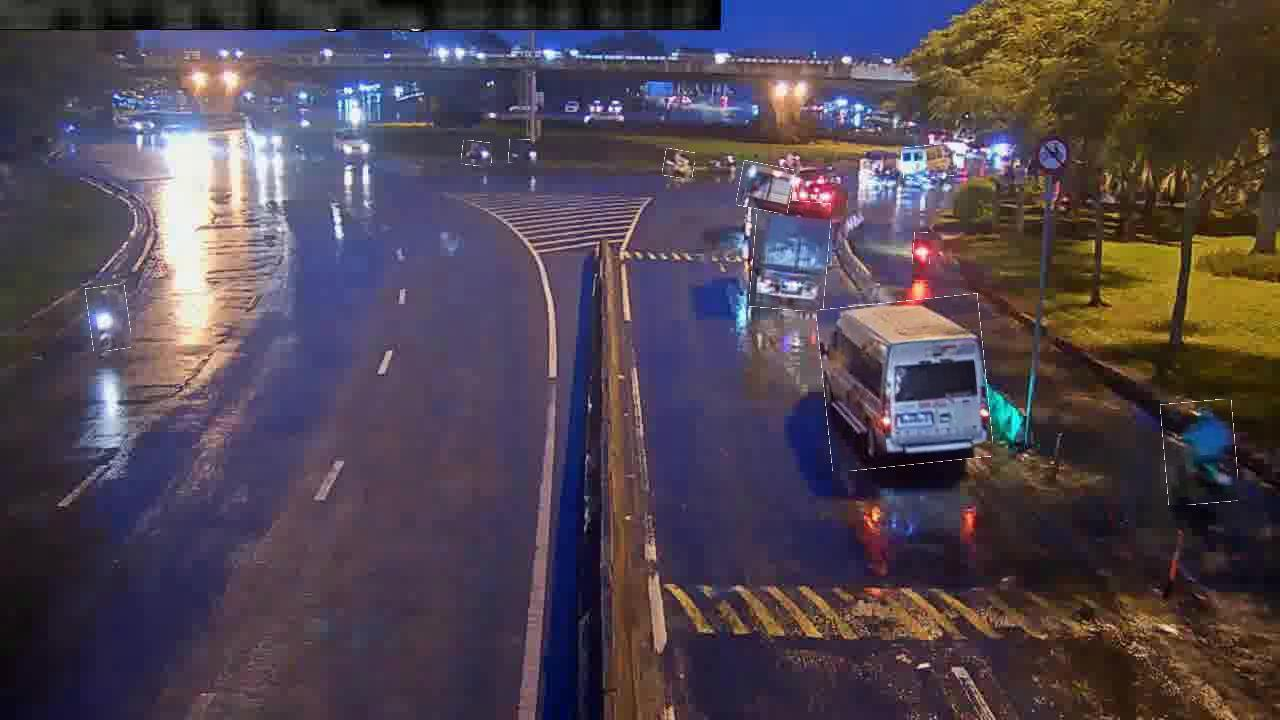container: (752, 199, 830, 311)
motorbike: (1162, 401, 1237, 505), (87, 285, 130, 351), (738, 163, 794, 212), (663, 149, 695, 178), (462, 141, 492, 167), (509, 140, 536, 164), (913, 233, 931, 265)
passenger_car: (820, 297, 990, 468), (902, 145, 958, 179)
